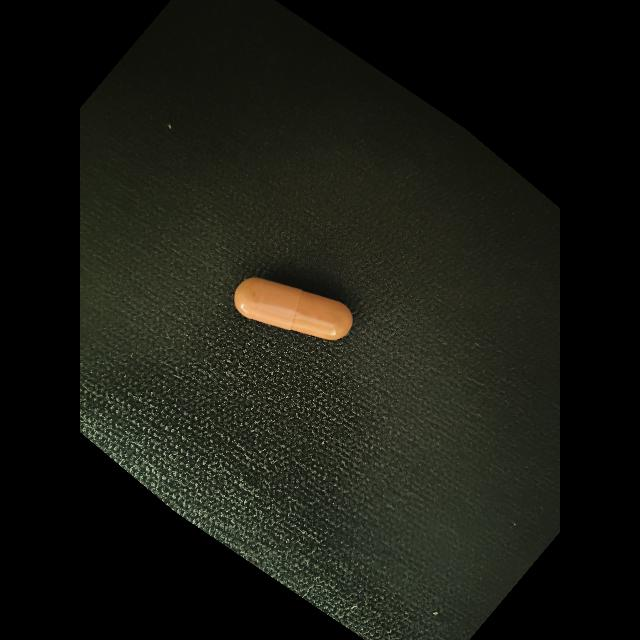Intact Capsule: (234, 278, 353, 340)
